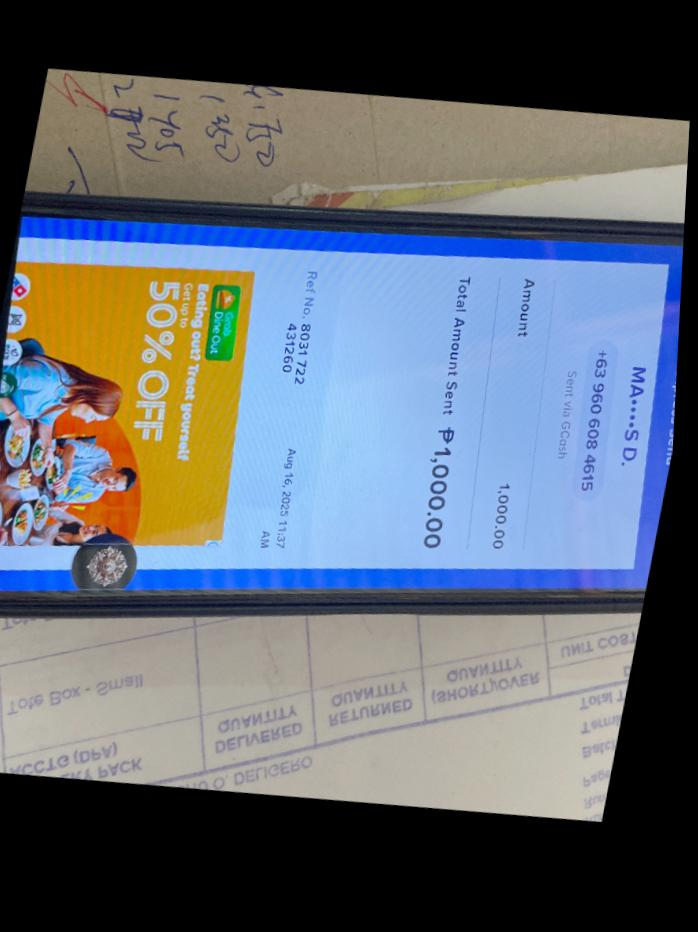Receipt: (0, 216, 683, 590)
